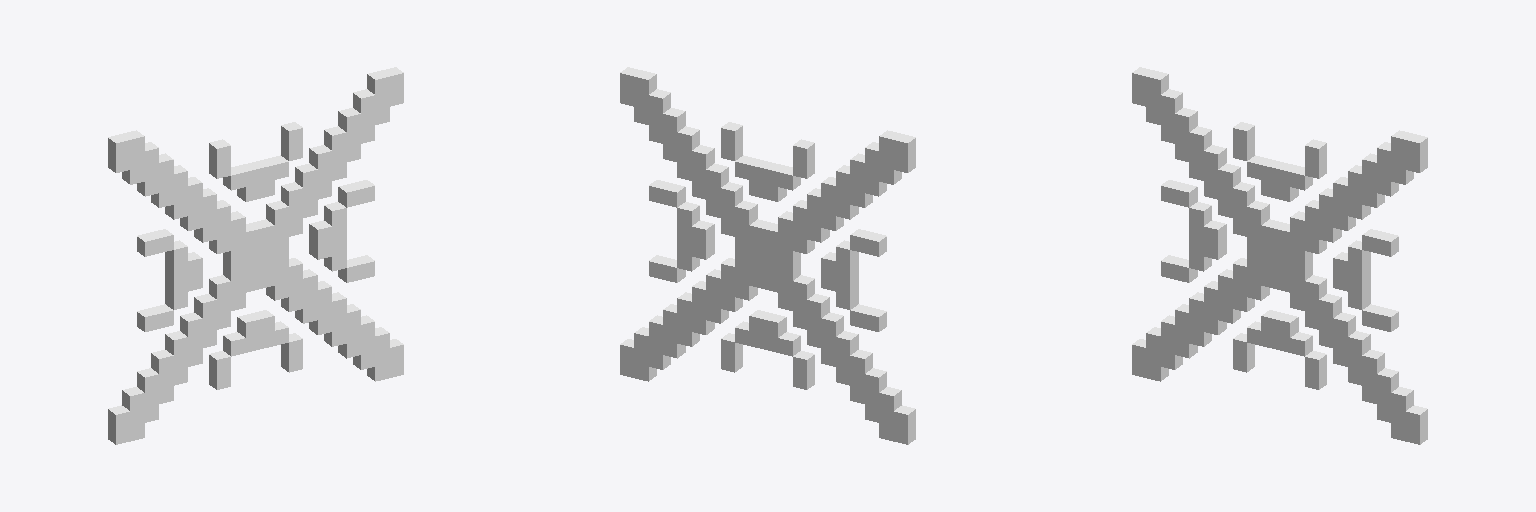
File: MC_XMark.obj
3 views of the same model, side by side, from view 1: azimuth 30°, elevation 25°; view 2: azimuth 150°, elevation 25°; view 3: azimuth 330°, elevation 25° (orthographic).
Visible parts, largest first — view 1: MC_XMark; view 2: MC_XMark; view 3: MC_XMark.
Boxes of the visible parts, x1=… form: MC_XMark: x1=108, y1=67, x2=403, y2=444; MC_XMark: x1=620, y1=67, x2=915, y2=444; MC_XMark: x1=1132, y1=67, x2=1427, y2=444.
Bounding box in the file's own units: 20 × 20 × 1.